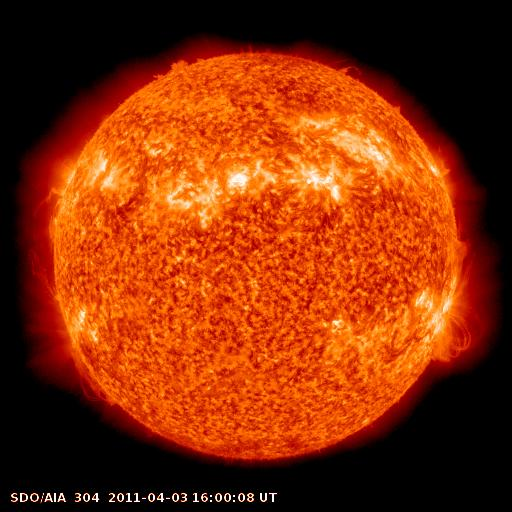prominence: (63, 343, 129, 415), (12, 232, 65, 305), (143, 49, 217, 90), (17, 173, 72, 220), (422, 140, 465, 190), (321, 51, 364, 83)
